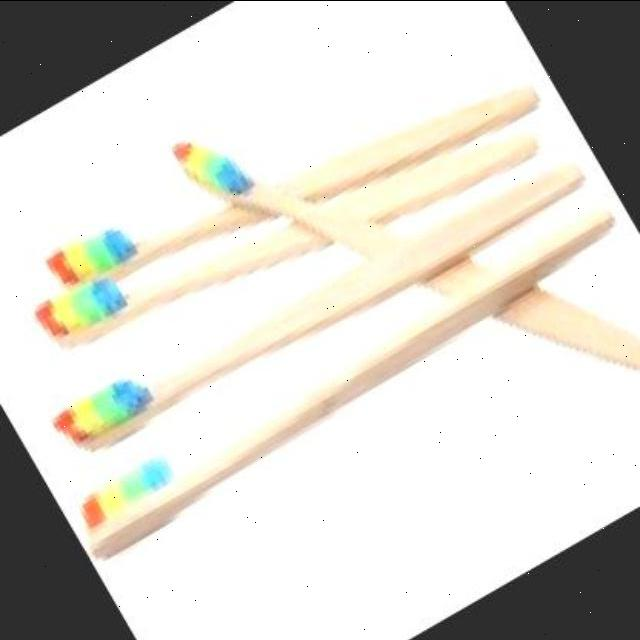toothbrush: (64, 188, 630, 550)
